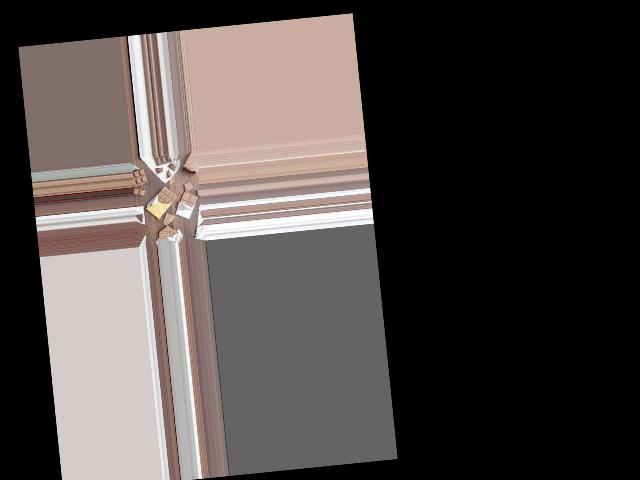chocolate: (172, 190, 201, 218)
